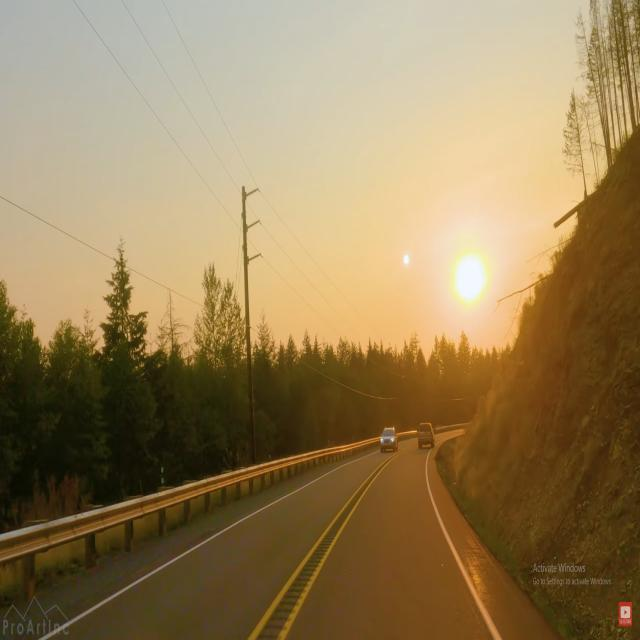sun: (439, 235, 504, 323)
